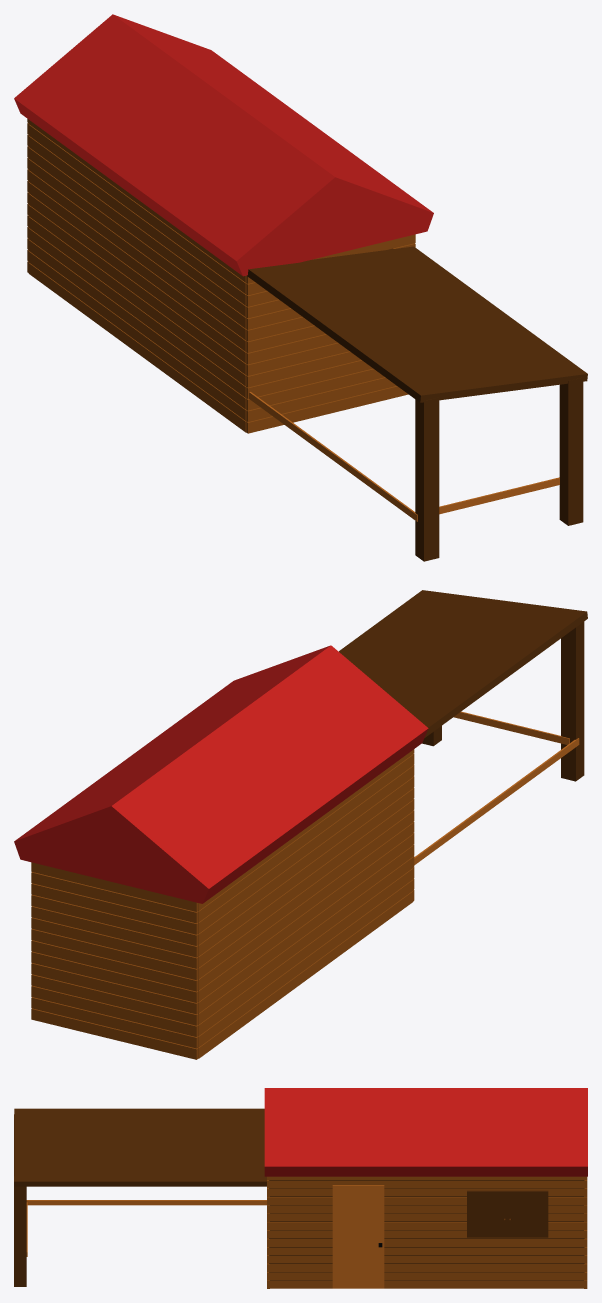
File: GranjaExterior1.fbx
3 views of the same model, one above another, from view 1: azimuth 30°, elevation 25°; view 2: azimuth 150°, elevation 25°; view 3: azimuth 270°, elevation 25° (orthographic). The views are drawn at different scales.
Visible parts, largest first — view 1: Cylinder, Cube.005, Cube.022, Cube.007, Cube.021, Cube.020, Cube.024, Cube.023; view 2: Cylinder, Cube.005, Cube.008, Cube.022, Cube.021, Cube.024, Cube.023; view 3: Cylinder, Cube.006, Cube.022, Cube.017, Cube, Cube.018, Cube.019, Cube.024, Cube.020, Cube.008, Cube.007.
Boxes of the visible parts, box(x1,y1,x2,y2) form: Cylinder: box(14, 14, 433, 276); Cube.005: box(28, 120, 246, 432); Cube.022: box(247, 246, 587, 402); Cube.007: box(246, 234, 415, 433); Cube.021: box(415, 397, 439, 561); Cube.020: box(559, 377, 583, 525); Cube.024: box(249, 392, 417, 521); Cube.023: box(439, 477, 559, 514); Cylinder: box(14, 645, 428, 903); Cube.005: box(198, 750, 413, 1058); Cube.008: box(31, 862, 198, 1059); Cube.022: box(339, 590, 587, 737); Cube.021: box(561, 621, 584, 781); Cube.024: box(414, 738, 579, 865); Cube.023: box(453, 711, 569, 744); Cylinder: box(264, 1088, 587, 1176); Cube.006: box(269, 1176, 583, 1288); Cube.022: box(14, 1108, 266, 1186); Cube.017: box(332, 1185, 384, 1288); Cube: box(269, 1180, 584, 1280); Cube.018: box(507, 1190, 548, 1237); Cube.019: box(467, 1190, 507, 1237); Cube.024: box(26, 1200, 266, 1205); Cube.020: box(14, 1176, 26, 1286); Cube.008: box(584, 1176, 587, 1288); Cube.007: box(267, 1176, 269, 1288).
Bounding box in the file's own units: 238 × 274 × 825.
